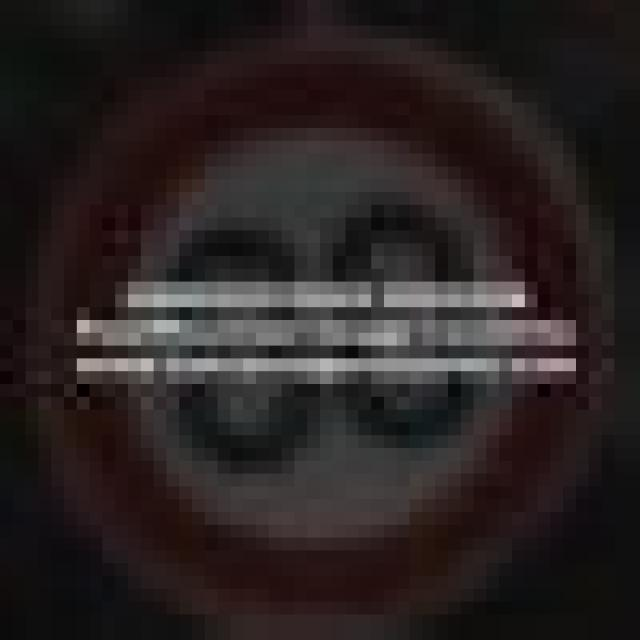SPEED_LIMIT_80: (26, 38, 588, 576)
